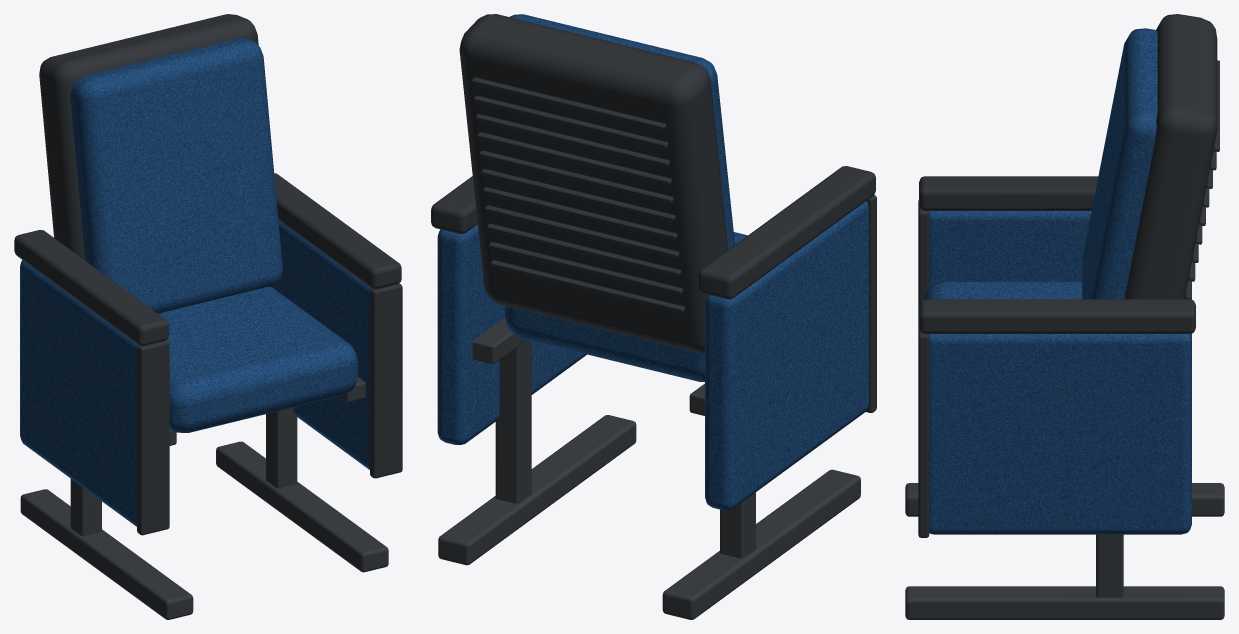
Rendered from Poltrona_Azul.glb.
3 views of the same model, side by side, from view 1: azimuth 30°, elevation 25°; view 2: azimuth 150°, elevation 25°; view 3: azimuth 270°, elevation 25° (orthographic). The views are drawn at different scales.
Visible parts, largest first — view 1: Poltrona_azul; view 2: Poltrona_azul; view 3: Poltrona_azul.
Boxes of the visible parts, box(x1,y1,x2,y2) form: Poltrona_azul: box(14, 14, 402, 619); Poltrona_azul: box(431, 14, 876, 619); Poltrona_azul: box(905, 14, 1224, 619).
Bounding box in the file's own units: 0.661 × 1.11 × 0.64.
3 materials, 1 textured.
